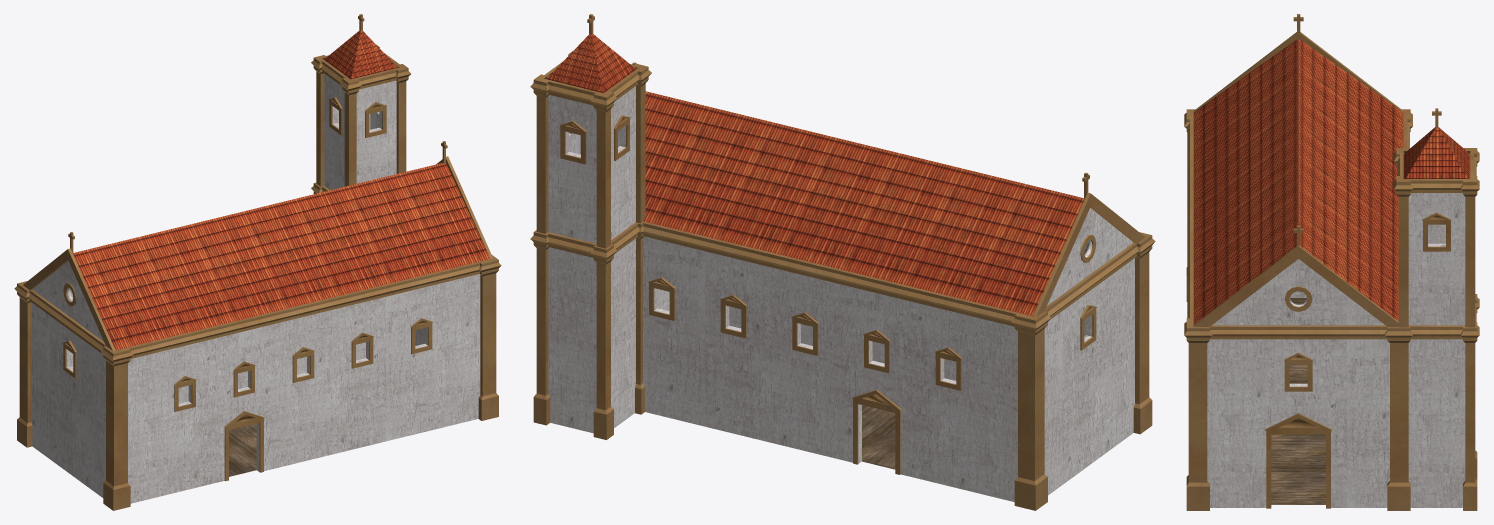
Rendered from chapel.lod0.glb.
The picture shows the model from 3 angles, left to right: view 1: azimuth 30°, elevation 25°; view 2: azimuth 150°, elevation 25°; view 3: azimuth 270°, elevation 25°; orthographic projection. The views are drawn at different scales.
Visible parts, largest first — view 1: Object_6, Object_5, Object_4, Object_7; view 2: Object_6, Object_5, Object_4, Object_7; view 3: Object_6, Object_5, Object_4, Object_7.
Part boxes in pixels (left/top/right/bottom): Object_6: left=31, top=73, right=480, bottom=503; Object_5: left=73, top=30, right=490, bottom=350; Object_4: left=14, top=14, right=501, bottom=510; Object_7: left=229, top=423, right=256, bottom=476; Object_6: left=548, top=86, right=1134, bottom=501; Object_5: left=546, top=34, right=1083, bottom=316; Object_4: left=530, top=14, right=1155, bottom=510; Object_7: left=862, top=405, right=895, bottom=469; Object_6: left=1207, top=193, right=1465, bottom=507; Object_5: left=1193, top=39, right=1470, bottom=324; Object_4: left=1184, top=14, right=1479, bottom=510; Object_7: left=1271, top=298, right=1325, bottom=504.
Bounding box in the file's own units: 12 × 9.75 × 6.78.
4 materials, 4 textured.
